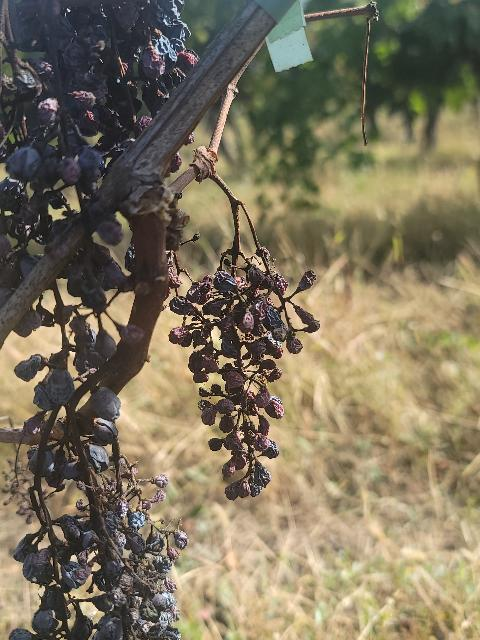grapes: (169, 248, 320, 500)
